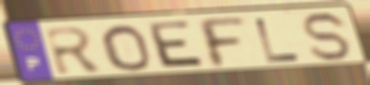E: (147, 19, 209, 70)
F: (193, 16, 250, 70)
L: (252, 17, 303, 64)
O: (98, 23, 154, 73)
R: (42, 25, 108, 77)
S: (301, 10, 355, 63)
